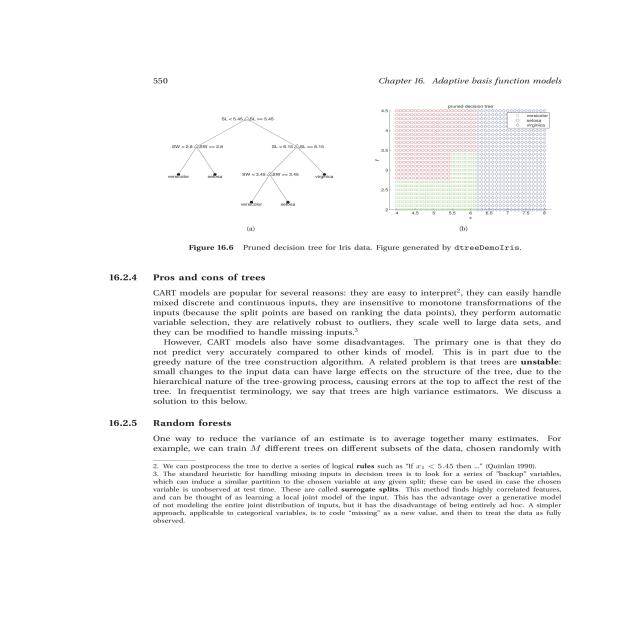diagram: (90, 94, 640, 262)
